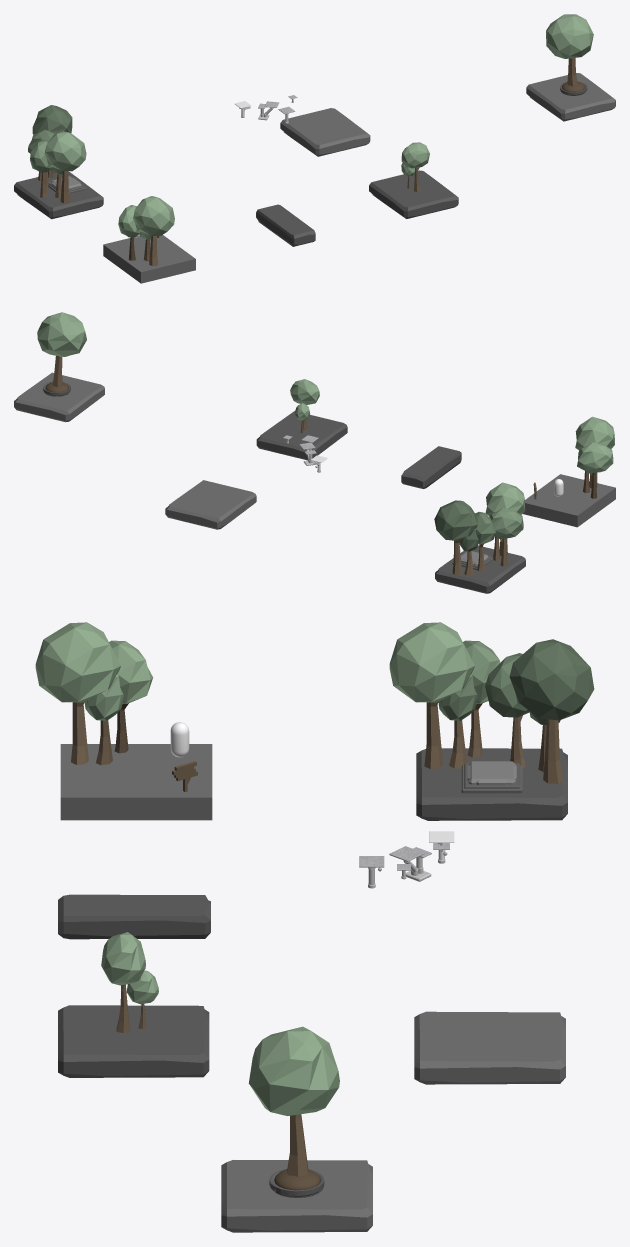
Rendered from 3dmap final2.fbx.
The picture shows the model from 3 angles, top to bottom: view 1: azimuth 30°, elevation 25°; view 2: azimuth 150°, elevation 25°; view 3: azimuth 270°, elevation 25°; orthographic projection. The views are drawn at different scales.
Parts seen in each view (by area): view 1: pasted__pasted__Cube__12__1, pasted__pasted__Cube__27__1, Cube__13_, pasted__pasted__Cube__28__1, pasted__pasted__pCube11 (×2), pasted__pasted__Cube__9_, pasted__pasted__pasted__pasted__pCube11_2, pasted__Cube__20_, pasted__pCube11, pasted__pasted__pasted__pCube11_2, pasted__pasted__pasted__pCube11, pasted__pasted__pasted__pasted__pCube11; view 2: Cube__13_, pasted__pasted__Cube__12__1, pasted__pasted__Cube__27__1, pasted__pasted__Cube__28__1, pasted__pasted__pCube11 (×2), pasted__pasted__Cube__9_, pasted__pasted__pasted__pasted__pCube11_2, pasted__Cube__20_, pasted__pasted__pasted__pasted__pCube11 (×2), pasted__pCube11, pasted__pasted__pasted__pCube11, pasted__pasted__pasted__pCube11_2; view 3: pasted__pasted__pCube11 (×3), pasted__pasted__Cube__12__1, pasted__pasted__Cube__27__1, Cube__13_, pasted__pasted__Cube__28__1, pasted__pasted__Cube__9_, pasted__Cube__20_, pasted__pasted__pasted__pasted__pCube11_2, pasted__pCube11, pasted__pasted__pasted__pasted__pCube11 (×2), pasted__pasted__pasted__pCube11 (×2), pasted__pCylinder7 (×2) (+4 smaller).
Boxes of the visible parts, x1=… form: pasted__pasted__Cube__12__1: x1=280, y1=108, x2=370, y2=156; pasted__pasted__Cube__27__1: x1=369, y1=170, x2=458, y2=218; Cube__13_: x1=103, y1=235, x2=195, y2=283; pasted__pasted__Cube__28__1: x1=526, y1=73, x2=615, y2=121; pasted__pasted__pCube11 (×2): x1=32, y1=105, x2=86, y2=171; pasted__pasted__Cube__9_: x1=14, y1=171, x2=103, y2=219; pasted__pasted__pasted__pasted__pCube11_2: x1=546, y1=14, x2=593, y2=58; pasted__Cube__20_: x1=256, y1=204, x2=315, y2=246; pasted__pCube11: x1=133, y1=196, x2=174, y2=235; pasted__pasted__pasted__pCube11_2: x1=401, y1=142, x2=429, y2=168; pasted__pasted__pasted__pCube11: x1=118, y1=205, x2=140, y2=237; pasted__pasted__pasted__pasted__pCube11: x1=30, y1=140, x2=52, y2=172; Cube__13_: x1=523, y1=474, x2=615, y2=527; pasted__pasted__Cube__12__1: x1=165, y1=480, x2=256, y2=529; pasted__pasted__Cube__27__1: x1=256, y1=411, x2=347, y2=460; pasted__pasted__Cube__28__1: x1=14, y1=372, x2=104, y2=422; pasted__pasted__pCube11 (×2): x1=434, y1=482, x2=525, y2=540; pasted__pasted__Cube__9_: x1=435, y1=545, x2=525, y2=593; pasted__pasted__pasted__pasted__pCube11_2: x1=37, y1=312, x2=86, y2=356; pasted__Cube__20_: x1=401, y1=446, x2=461, y2=488; pasted__pasted__pasted__pasted__pCube11 (×2): x1=475, y1=508, x2=523, y2=544; pasted__pCube11: x1=575, y1=416, x2=614, y2=450; pasted__pasted__pasted__pCube11: x1=577, y1=442, x2=613, y2=473; pasted__pasted__pasted__pCube11_2: x1=290, y1=379, x2=319, y2=404; pasted__pasted__pCube11 (×3): x1=84, y1=622, x2=594, y2=720; pasted__pasted__Cube__12__1: x1=414, y1=1011, x2=565, y2=1084; pasted__pasted__Cube__27__1: x1=58, y1=1005, x2=209, y2=1077; Cube__13_: x1=60, y1=744, x2=212, y2=820; pasted__pasted__Cube__28__1: x1=221, y1=1160, x2=372, y2=1232; pasted__pasted__Cube__9_: x1=416, y1=748, x2=567, y2=820; pasted__Cube__20_: x1=58, y1=894, x2=210, y2=939; pasted__pasted__pasted__pasted__pCube11_2: x1=248, y1=1026, x2=339, y2=1115; pasted__pCube11: x1=35, y1=622, x2=120, y2=702; pasted__pasted__pasted__pasted__pCube11 (×2): x1=463, y1=640, x2=529, y2=717; pasted__pasted__pasted__pCube11 (×2): x1=109, y1=640, x2=477, y2=720; pasted__pCylinder7 (×2): x1=424, y1=701, x2=562, y2=783.
Bounding box in the file's own units: 54.78 × 11.02 × 25.23.
